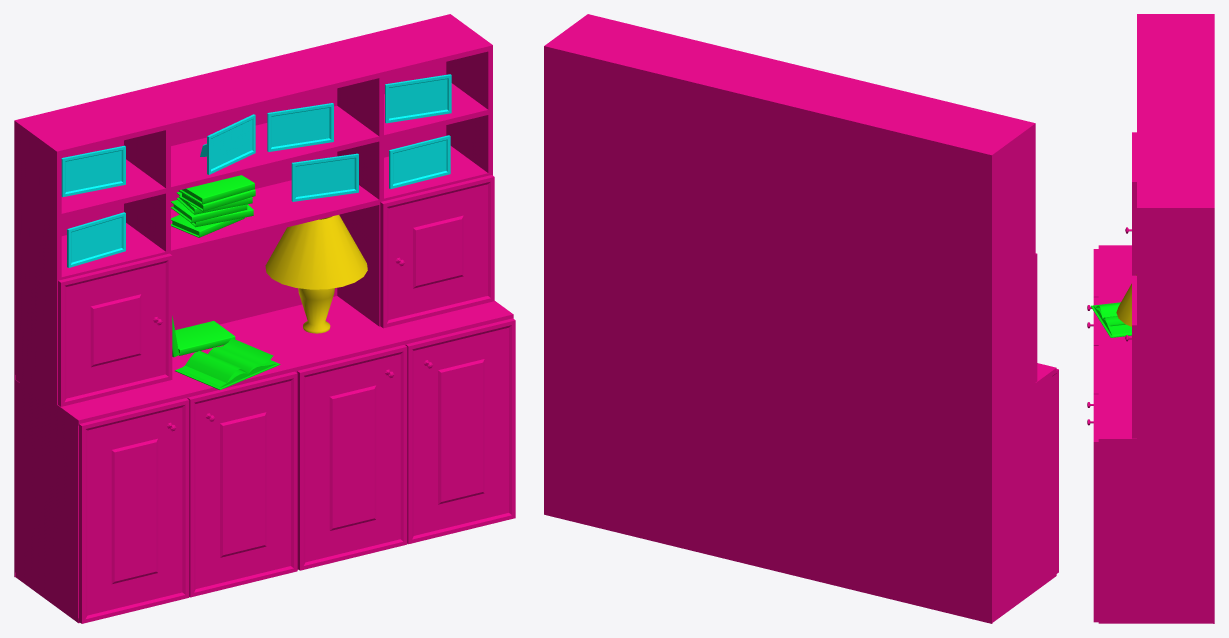
The model's file is Shelf Asset Export.FBX.
The picture shows the model from 3 angles, left to right: view 1: azimuth 30°, elevation 25°; view 2: azimuth 150°, elevation 25°; view 3: azimuth 270°, elevation 25°; orthographic projection. The views are drawn at different scales.
Visible parts, largest first — view 1: Bottom Cupbaord Door 001, Bottom Cupbaord Door 003, Bottom Cupbaord Door 004, Bottom Cupbaord Door 002, Shelf Top, Shelf Back, Top Shelf Divider Left (×2), Top Left Cuboard Door, Top Right Cupboard Door, Middle Structure, Bottom Left Structure, Lamp (+18 smaller); view 2: Shelf Back, Shelf Top, Bottom Left Structure, Top Shelf Divider Left; view 3: Bottom Right Structure, Top Shelf Structure Right, Shelf Top, Middle Structure, Bottom Cupbaord Door 004, Shelf Back, Top Right Cupboard Door, Low Poly Book Open Cover, Top Left Cuboard Door, Shelf Base, Lamp, Bottom Cupbaord Door 003 (+2 smaller).
Part boxes in pixels (bbox=[...]): Bottom Cupbaord Door 001: bbox=[79, 398, 189, 623]; Bottom Cupbaord Door 003: bbox=[297, 345, 407, 570]; Bottom Cupbaord Door 004: bbox=[405, 318, 515, 544]; Bottom Cupbaord Door 002: bbox=[187, 371, 297, 597]; Shelf Top: bbox=[15, 14, 492, 156]; Shelf Back: bbox=[14, 14, 450, 577]; Top Shelf Divider Left (×2): bbox=[15, 126, 170, 404]; Top Left Cuboard Door: bbox=[58, 253, 172, 406]; Top Right Cupboard Door: bbox=[380, 175, 494, 328]; Middle Structure: bbox=[15, 296, 513, 425]; Bottom Left Structure: bbox=[15, 380, 78, 618]; Lamp: bbox=[265, 215, 367, 333]; Shelf Back: bbox=[544, 45, 992, 623]; Shelf Top: bbox=[545, 14, 1035, 159]; Bottom Left Structure: bbox=[992, 373, 1057, 617]; Top Shelf Divider Left: bbox=[992, 129, 1035, 414]; Bottom Right Structure: bbox=[1098, 443, 1213, 619]; Top Shelf Structure Right: bbox=[1137, 212, 1213, 438]; Shelf Top: bbox=[1137, 14, 1213, 212]; Middle Structure: bbox=[1098, 245, 1213, 443]; Bottom Cupbaord Door 004: bbox=[1087, 394, 1098, 622]; Shelf Back: bbox=[1213, 14, 1214, 623]; Top Right Cupboard Door: bbox=[1125, 275, 1136, 438]; Low Poly Book Open Cover: bbox=[1090, 302, 1131, 337]; Top Left Cuboard Door: bbox=[1125, 132, 1136, 275]; Shelf Base: bbox=[1098, 619, 1213, 623]; Lamp: bbox=[1116, 274, 1136, 326]; Bottom Cupbaord Door 003: bbox=[1087, 346, 1098, 407].
Size of the model in its own units: 180 by 180 by 50.
